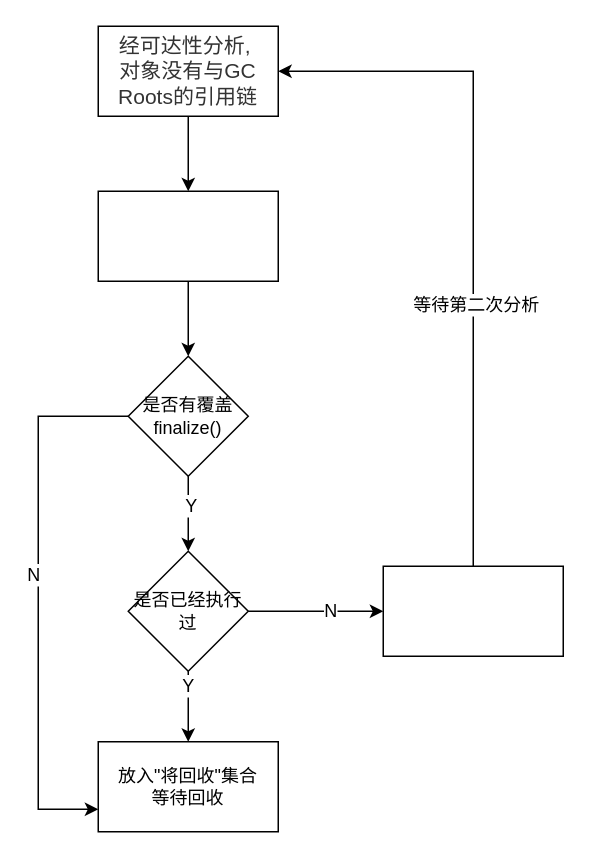
This 590x858 diagram has some shape labels left out. Each missing label, with the box of its shape:
放入F-Queue等待执行finalize(): (382, 565, 563, 656)
第一次标记: (97, 190, 278, 281)
